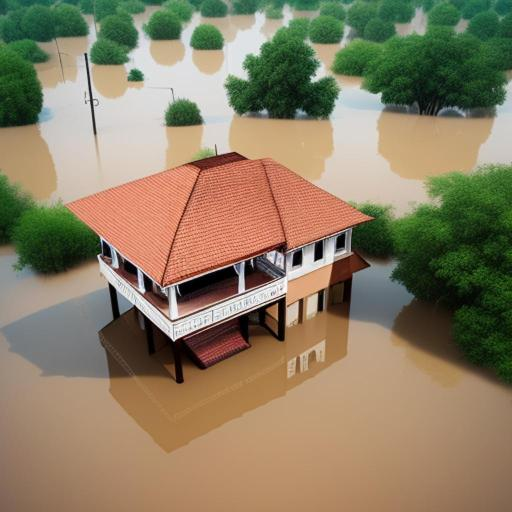flood: (0, 246, 512, 512), (0, 7, 512, 215), (313, 44, 344, 76), (398, 10, 426, 34), (120, 300, 130, 312), (458, 20, 467, 30)
house: (60, 147, 380, 389)
